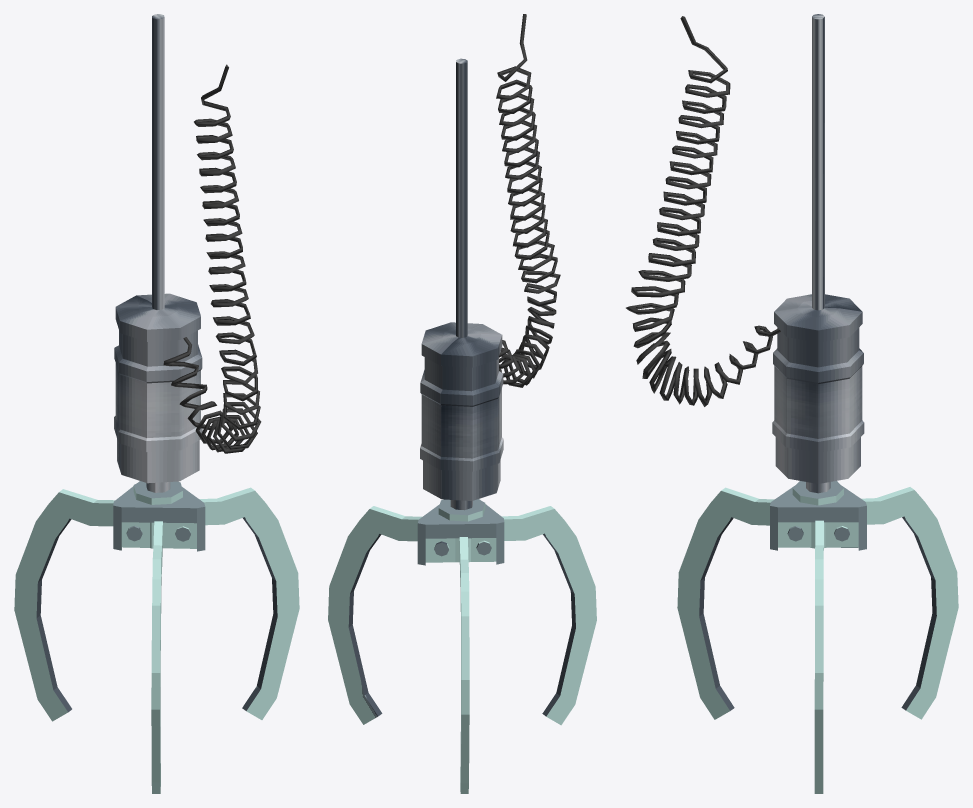
Rendered from ClawUnusUVs.fbx.
The picture shows the model from 3 angles, left to right: view 1: azimuth 30°, elevation 25°; view 2: azimuth 150°, elevation 25°; view 3: azimuth 270°, elevation 25°; orthographic projection. The views are drawn at different scales.
Parts seen in each view (by area): view 1: CLAWS, MAIN PART, CABLE, BOX, MAIN PART.001; view 2: CLAWS, MAIN PART, CABLE, BOX, MAIN PART.001; view 3: CLAWS, MAIN PART, CABLE, BOX, MAIN PART.001.
Boxes of the visible parts, x1,y1,x2,y2 form: CLAWS: (14, 487, 299, 793); MAIN PART: (114, 16, 202, 492); CABLE: (163, 64, 261, 453); BOX: (113, 481, 205, 551); MAIN PART.001: (152, 14, 164, 309); CLAWS: (328, 506, 596, 793); MAIN PART: (420, 62, 503, 510); CABLE: (496, 14, 560, 387); BOX: (417, 499, 504, 565); MAIN PART.001: (456, 58, 467, 337); CLAWS: (677, 487, 958, 793); MAIN PART: (772, 294, 864, 493); CABLE: (626, 16, 780, 406); BOX: (770, 481, 866, 550); MAIN PART.001: (812, 14, 824, 310).
Bounding box in the file's own units: 175 × 565 × 234.
3 materials, 2 textured.
